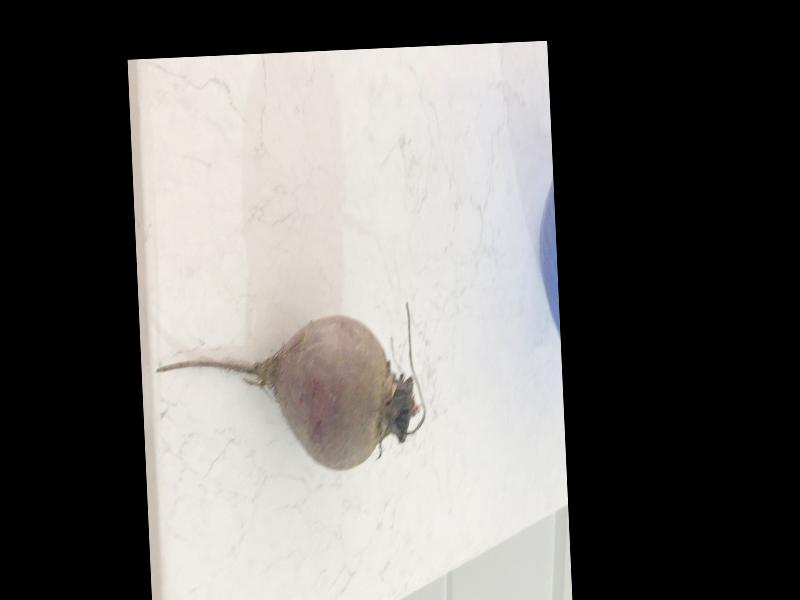Beet: (153, 300, 429, 477)
